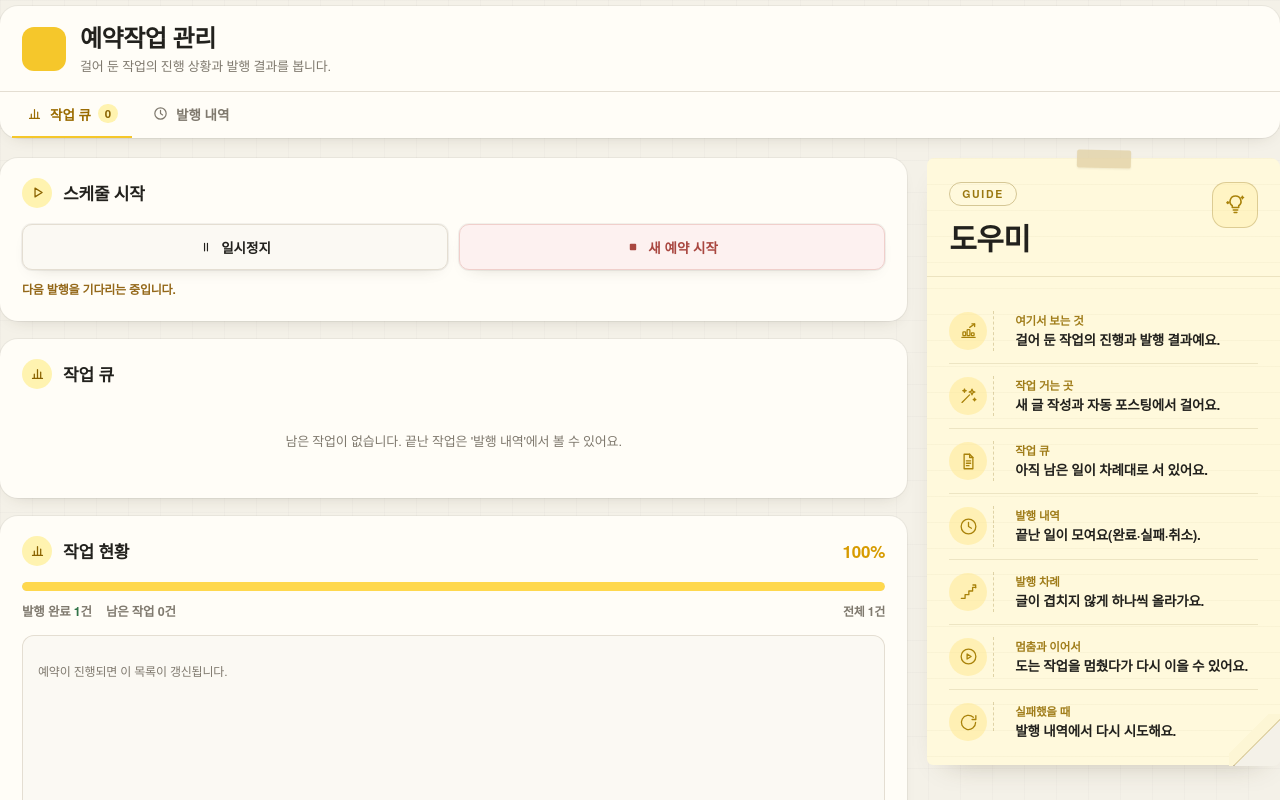
Test: 예약 포스팅 화면 › 발행 내역은 예정 시각이 아니라 실제 발행 시각과 글 주소를 보여 준다
Click the tab "발행 내역" at (191, 115), box [138,92,243,138]
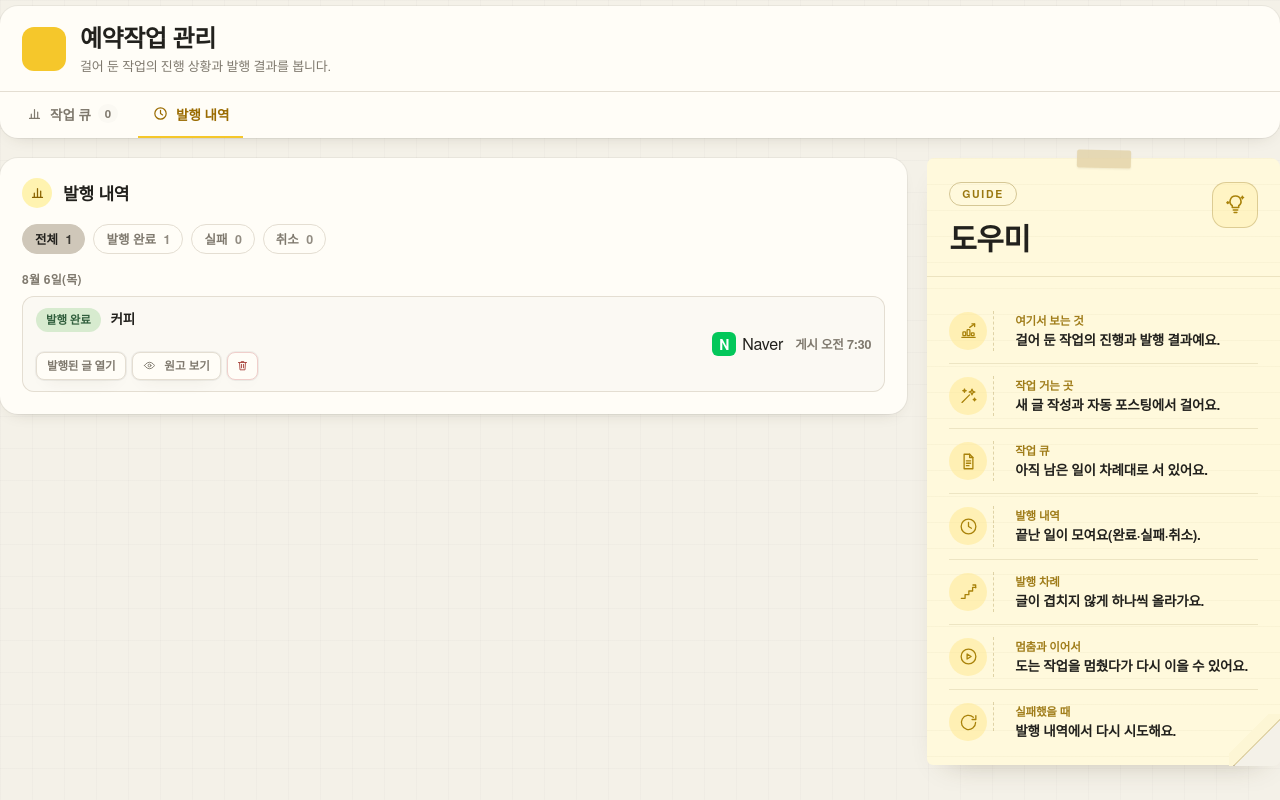
Expected: the link "발행된 글 열기" is shown, [36,352,126,380]
